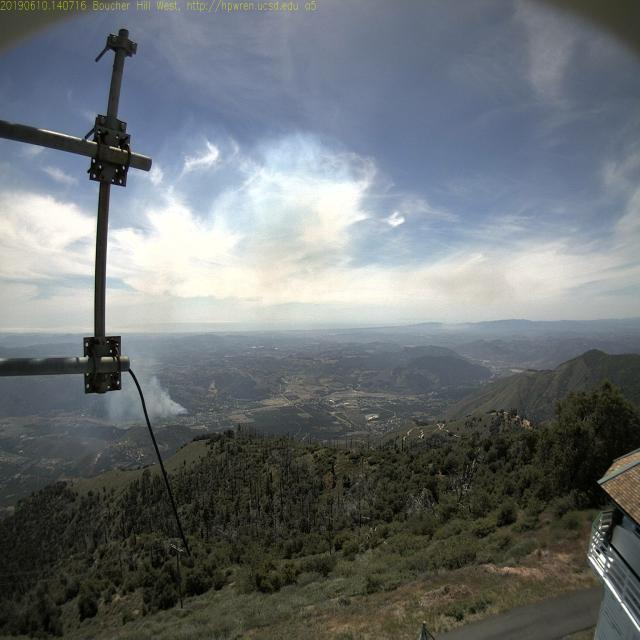smoke: (177, 393, 196, 424)
